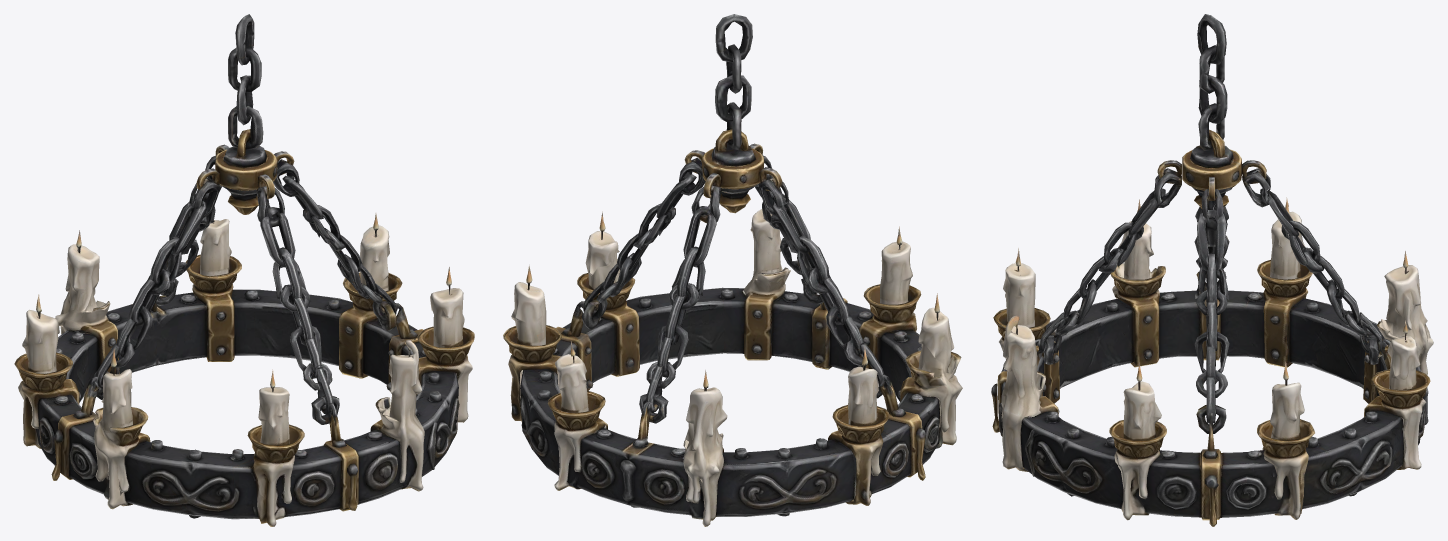
The model's file is chandelier.glb.
The picture shows the model from 3 angles, left to right: view 1: azimuth 30°, elevation 25°; view 2: azimuth 150°, elevation 25°; view 3: azimuth 270°, elevation 25°; orthographic projection.
Bounding box in the file's own units: 0.9077 × 0.9492 × 0.9048.
1 material, 1 textured.
